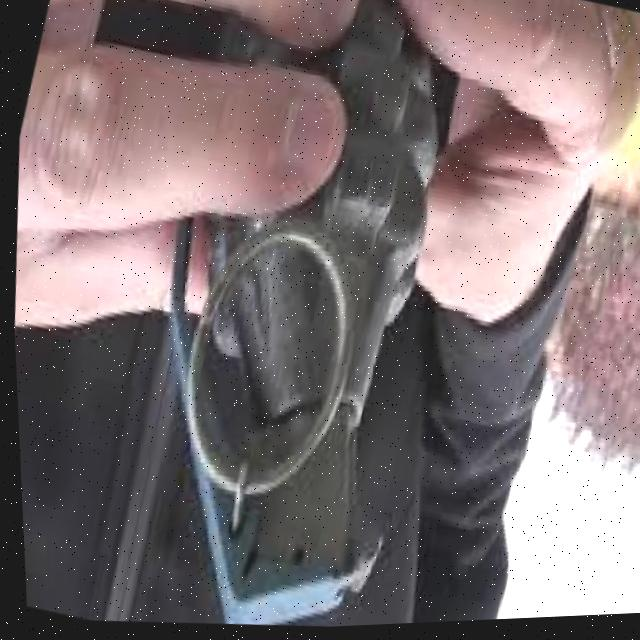grenade: (64, 0, 524, 638)
